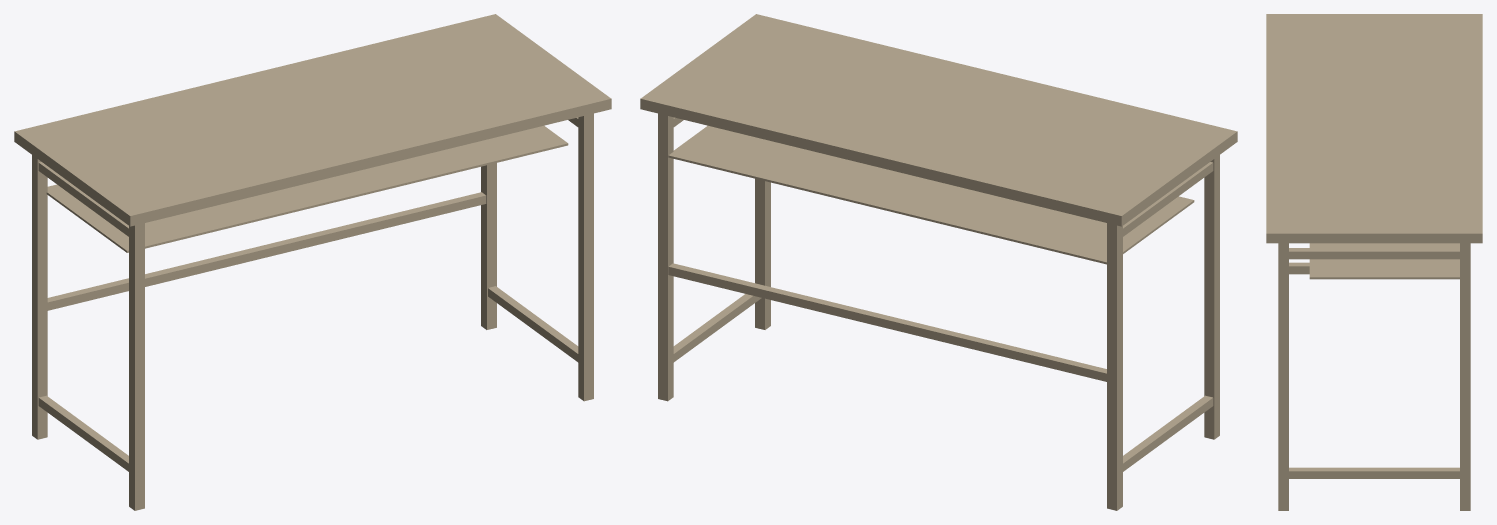
Rendered from desk.glb.
3 views of the same model, side by side, from view 1: azimuth 30°, elevation 25°; view 2: azimuth 150°, elevation 25°; view 3: azimuth 270°, elevation 25° (orthographic). The views are drawn at different scales.
Visible parts, largest first — view 1: desk; view 2: desk; view 3: desk.
Boxes of the visible parts, x1,y1,x2,y2 form: desk: (14, 14, 611, 510); desk: (640, 14, 1237, 510); desk: (1266, 14, 1482, 510).
Size of the model in its own units: 1.2 by 0.72 by 0.5.
